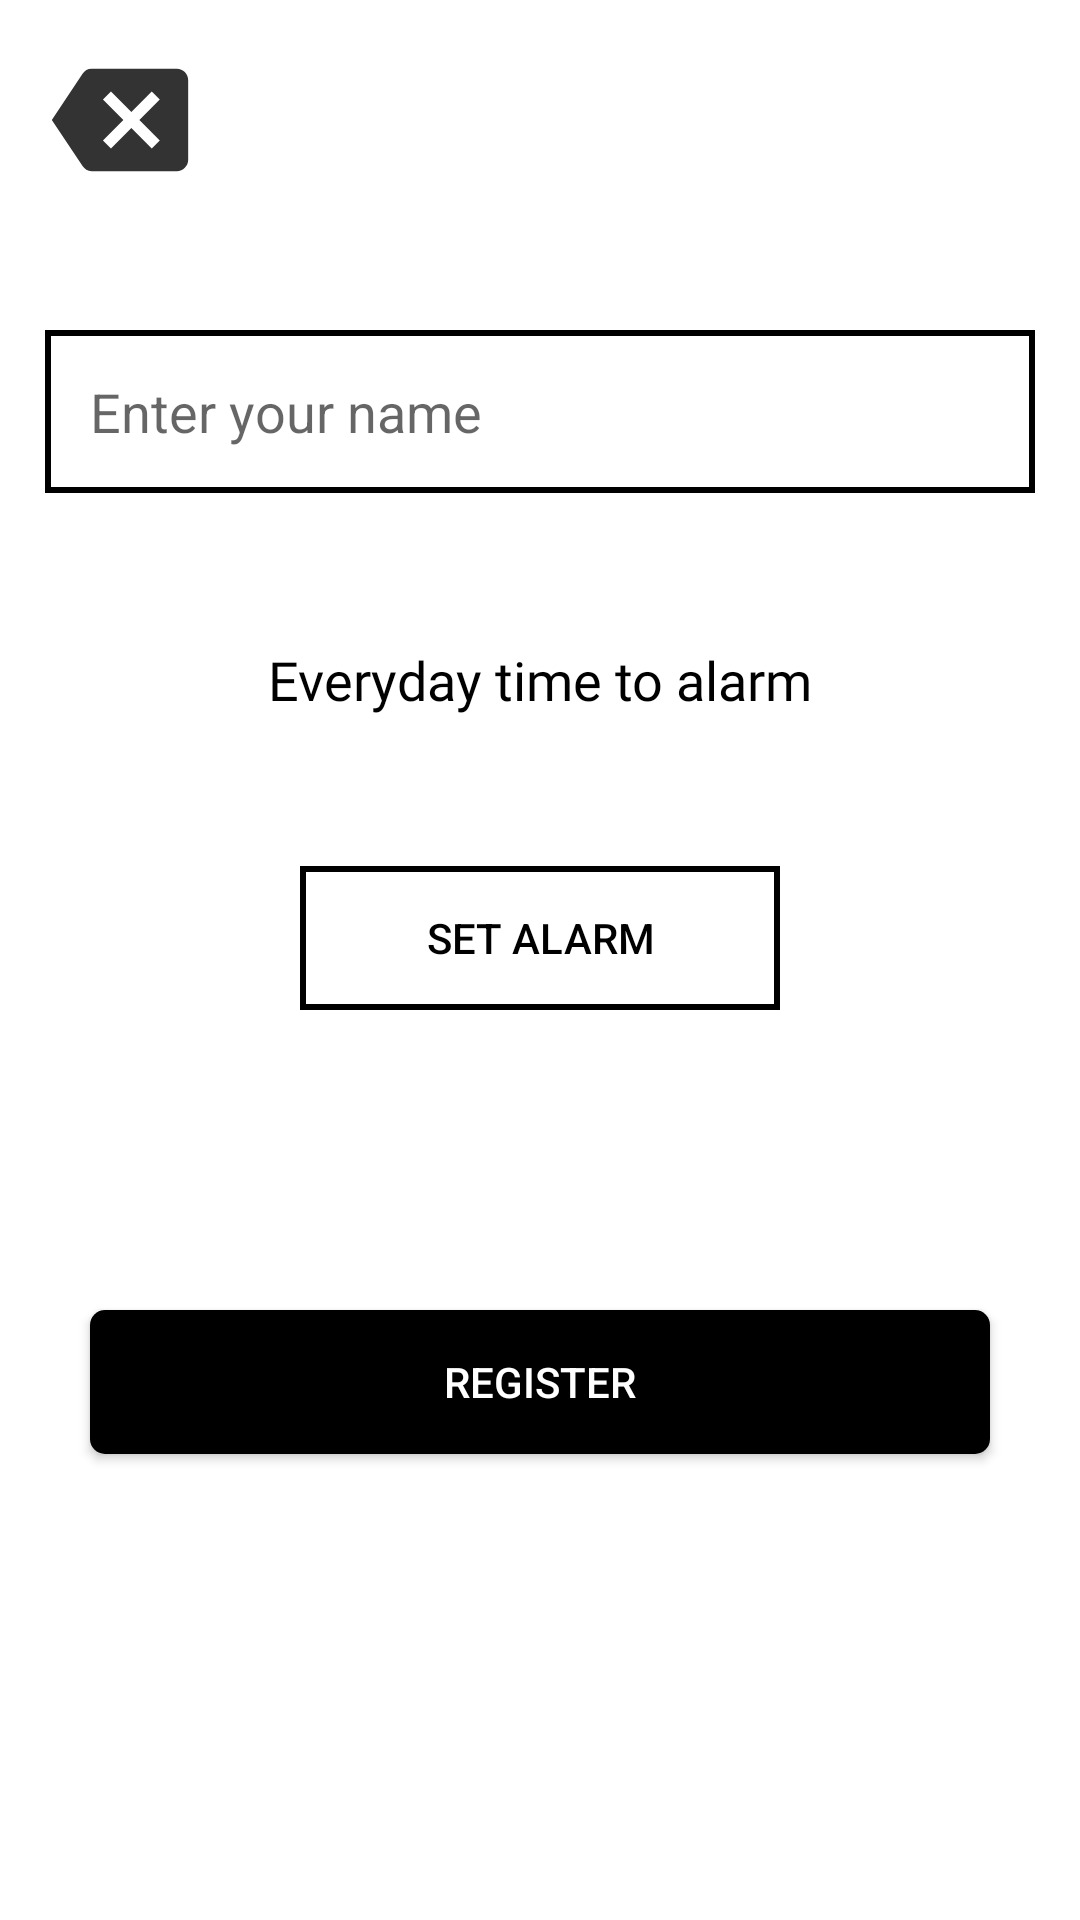

Screen size 1080 x 1920. Icon name, then its box in pixels as (x1, y1, x2, y2):
back: (52, 68, 189, 172)
